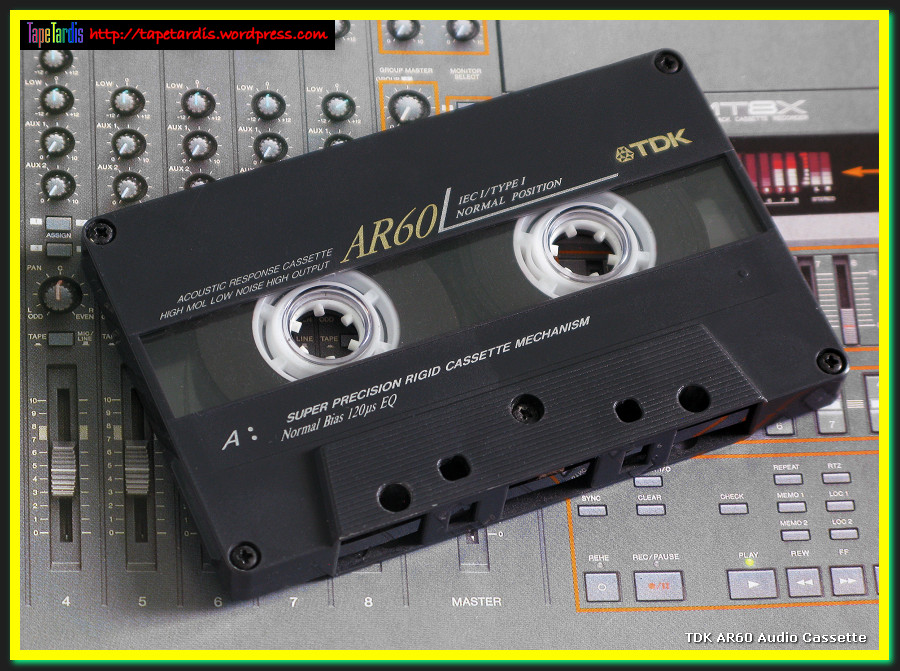Nonrec_Other: (55, 38, 857, 597)
